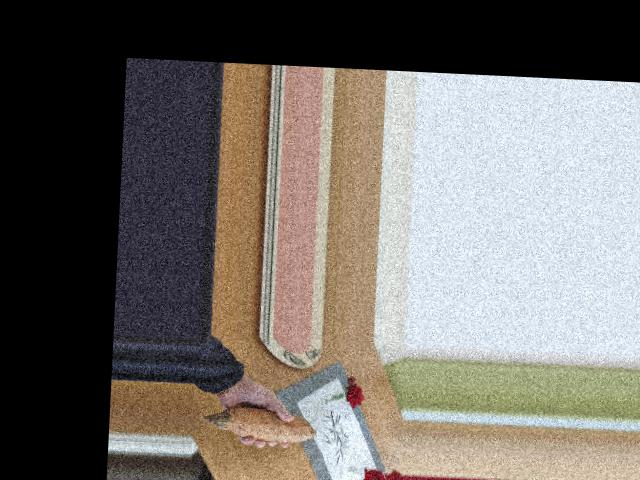sweet_potato: (209, 395, 320, 448)
